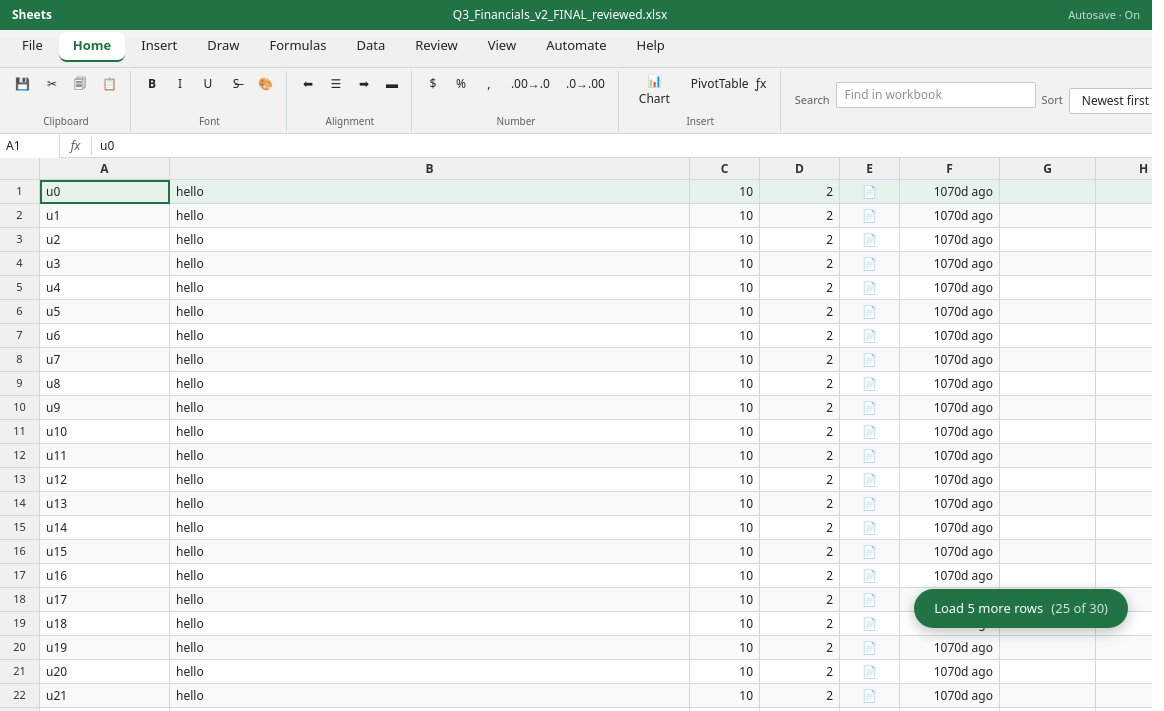
LedgerPage › shows a Load-more button when more than 25 posts and reveals them on click
Click the button with test id "ledger-load-more". click: click(1021, 608)
box: [914,588,1128,628]
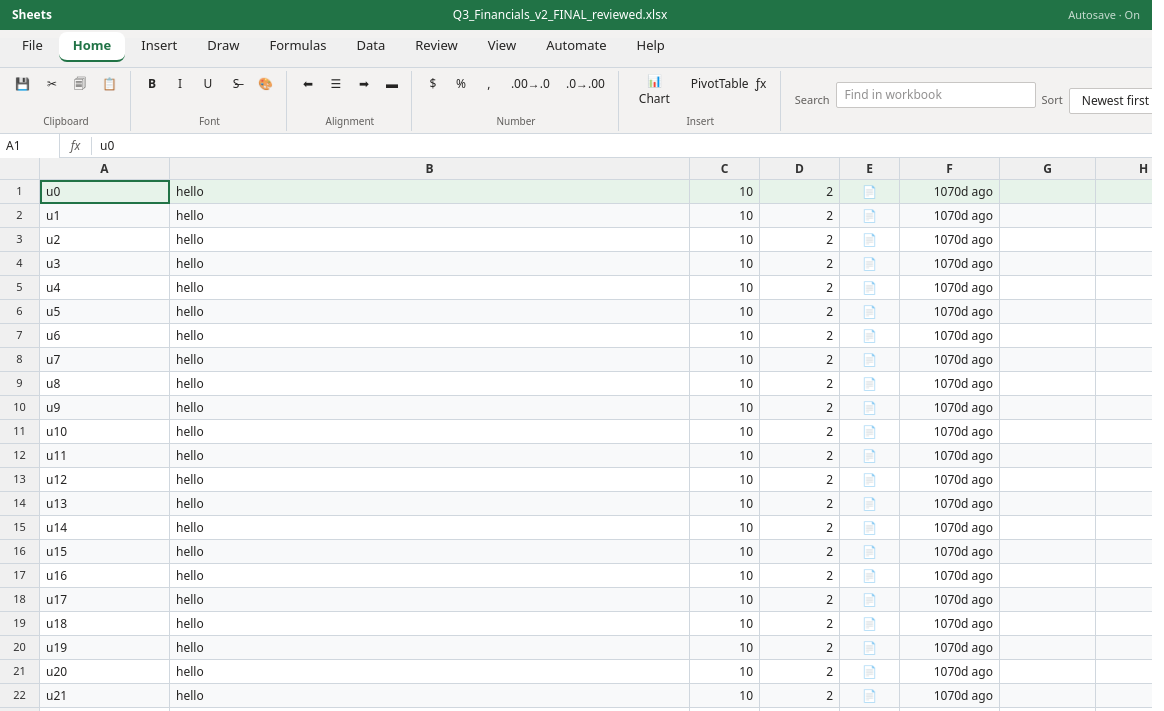
expect the button with test id "ledger-load-more" is gone: met
